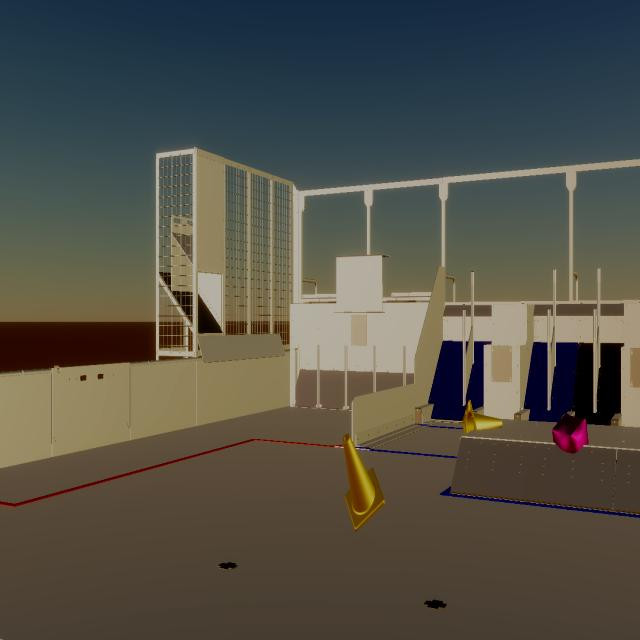frc_cone: (343, 434, 385, 532), (462, 400, 502, 434)
frc_cube: (552, 413, 589, 453)
